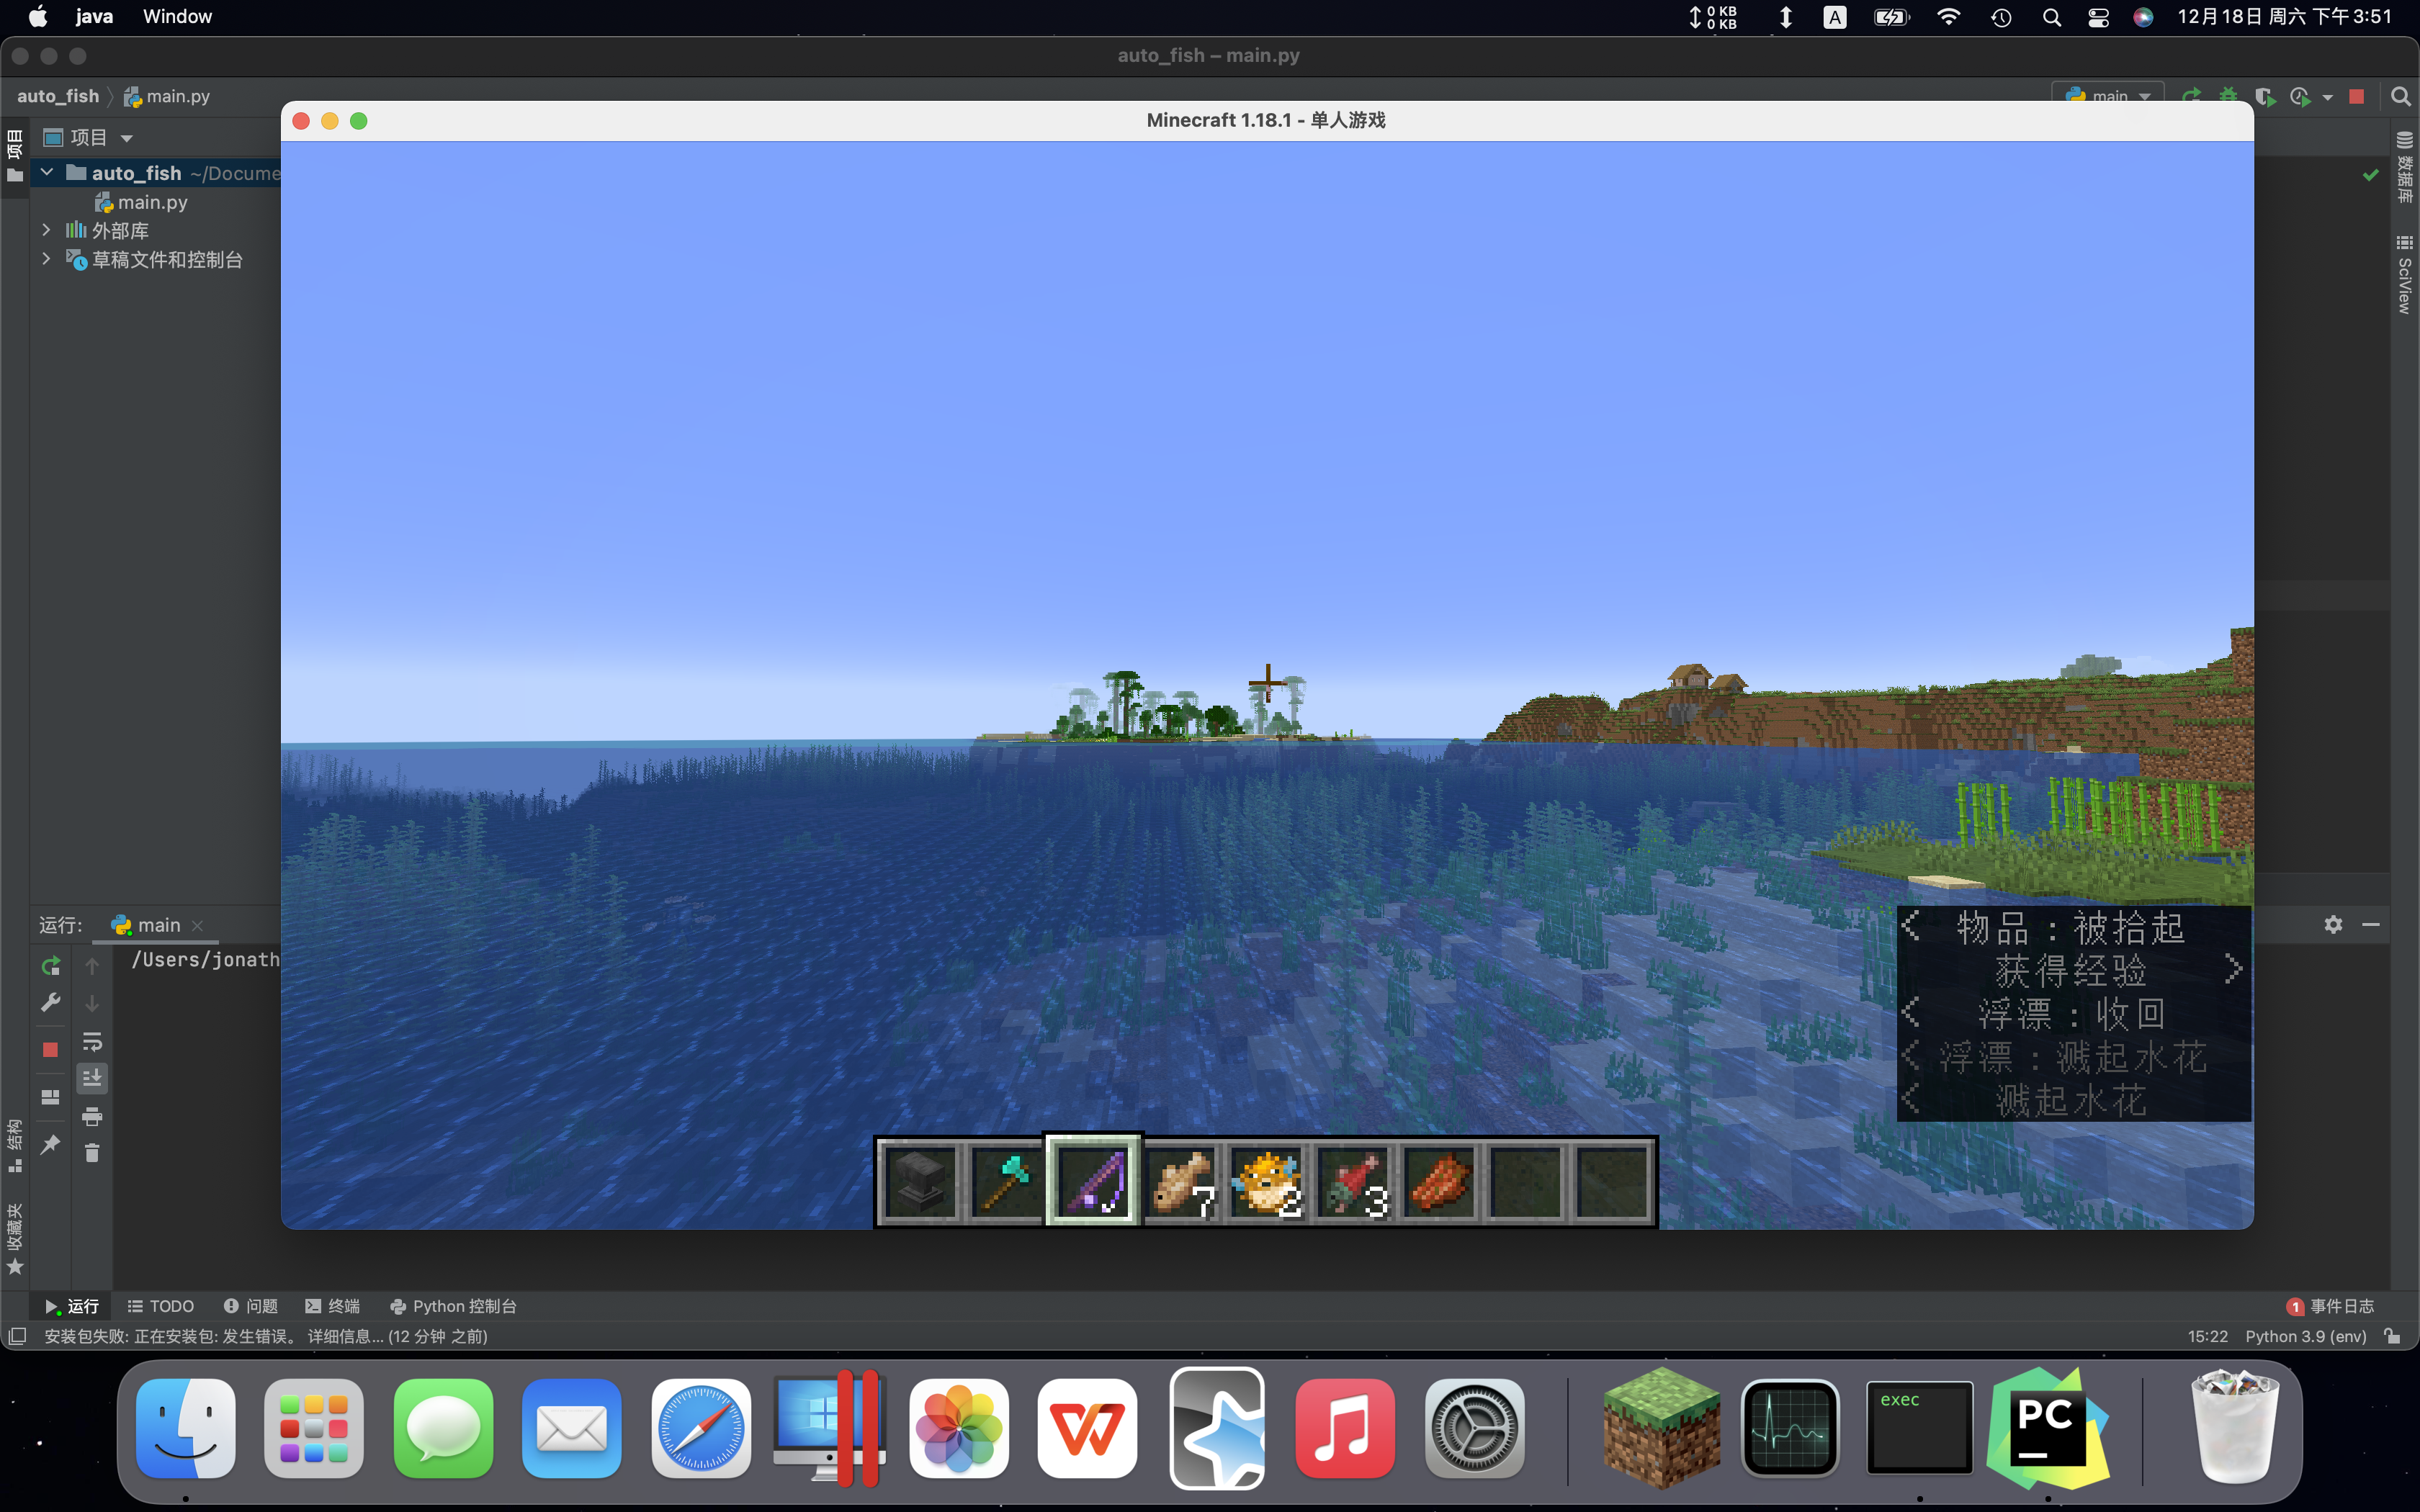inf: (1901, 906, 2251, 1124)
